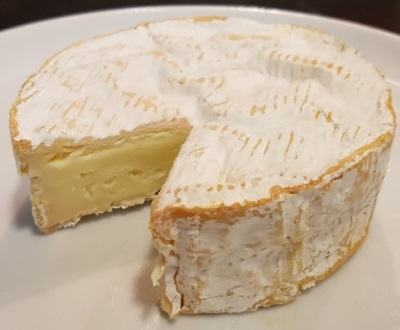camembert: (10, 16, 396, 320)
